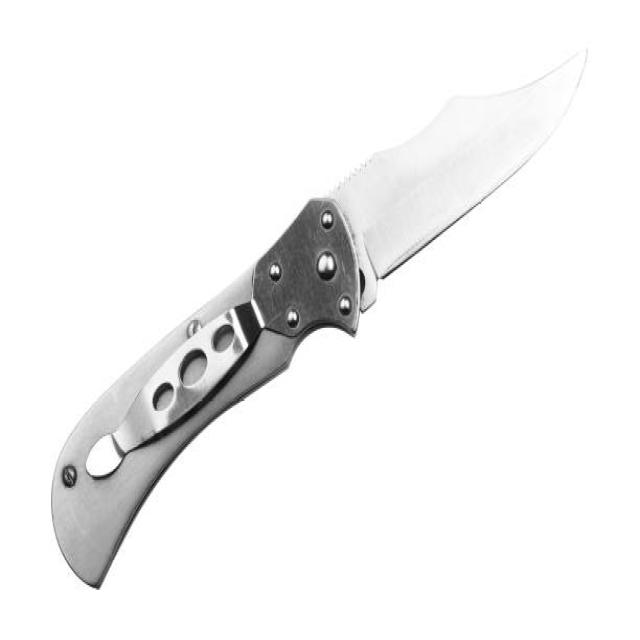knife: (44, 36, 599, 597)
